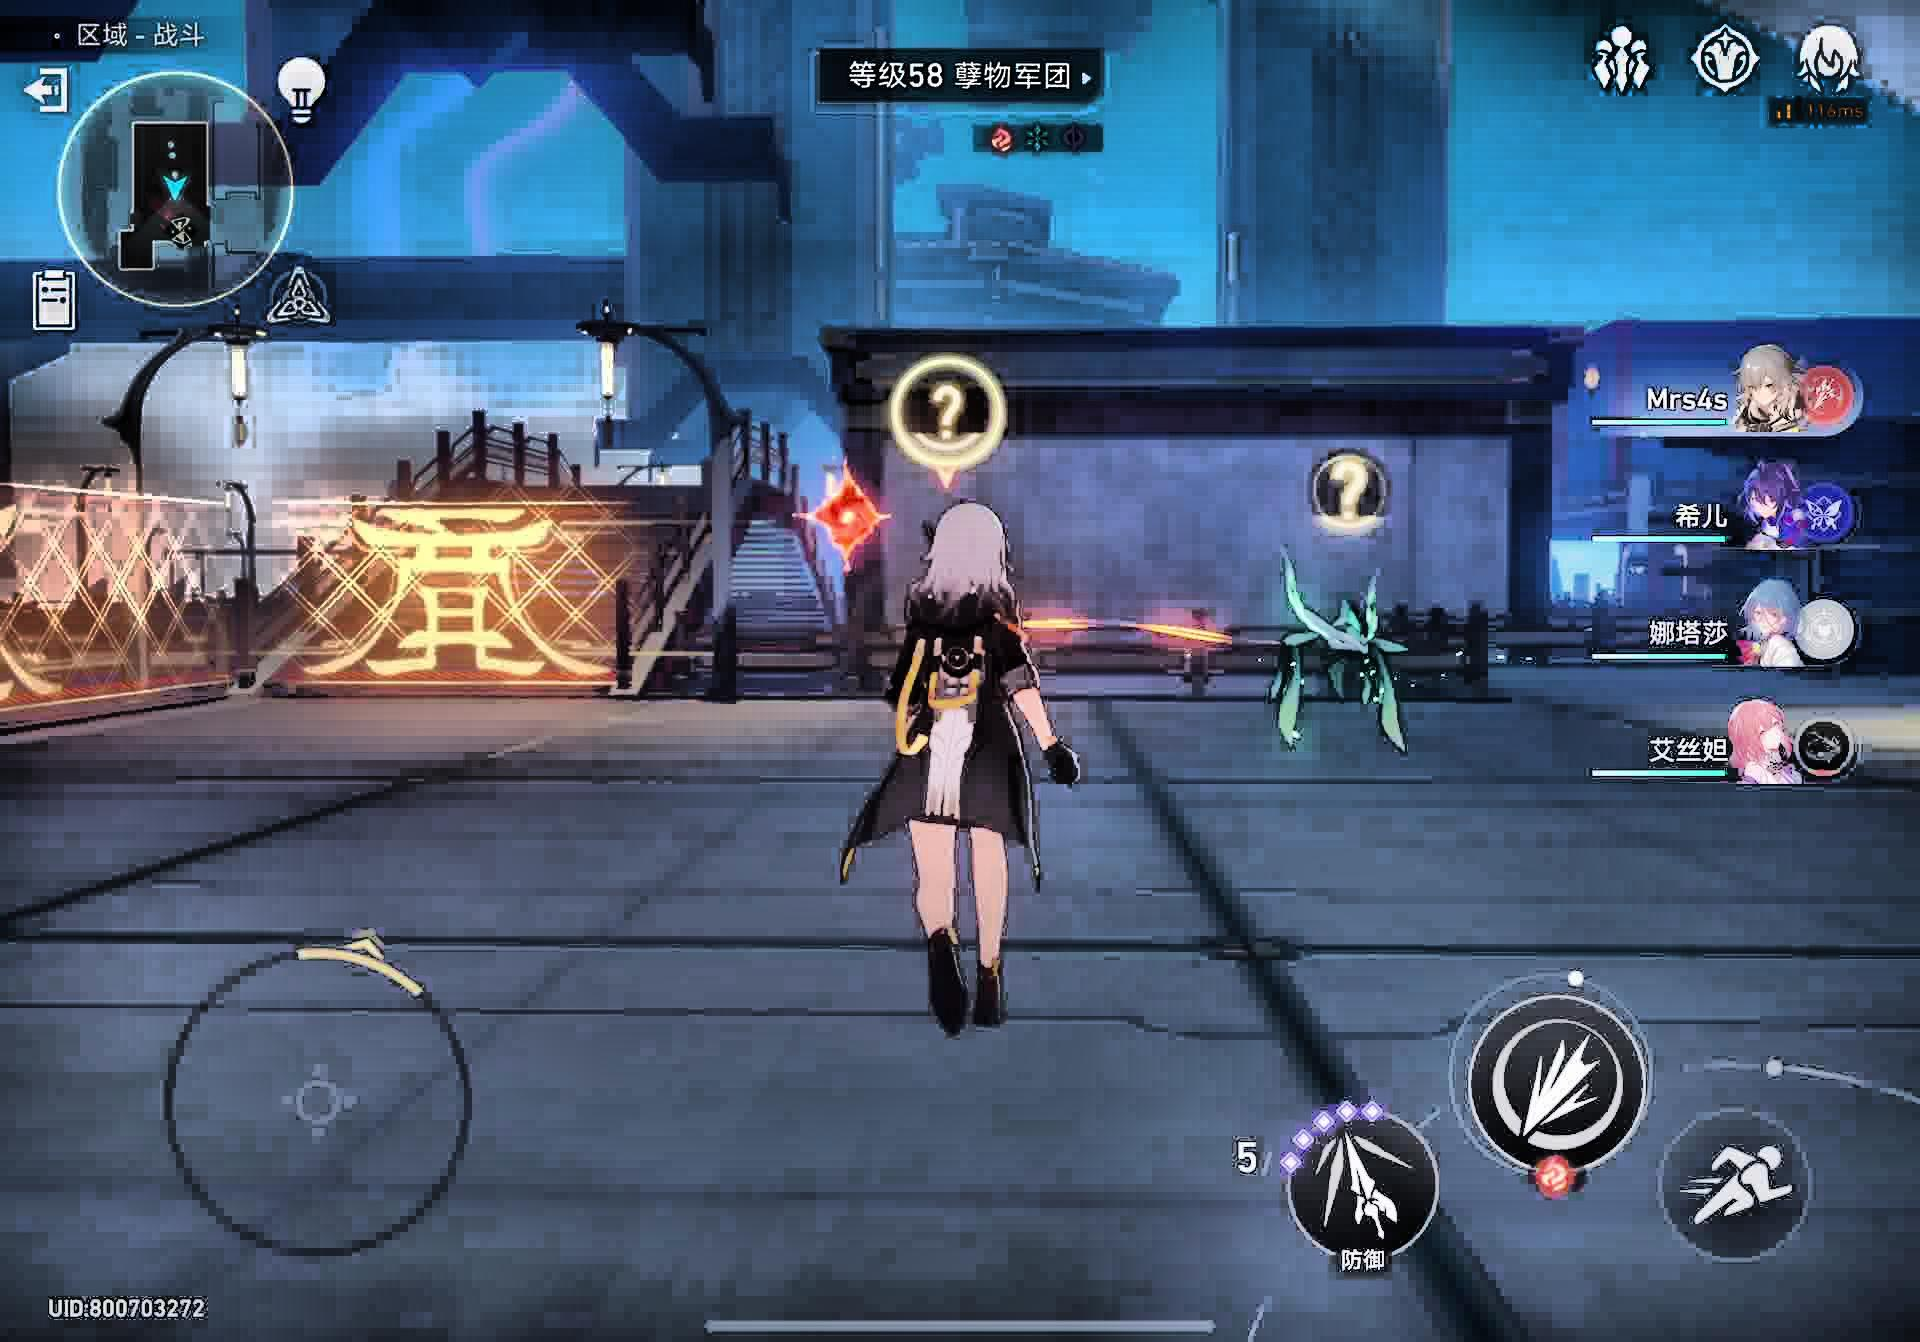BattleDoor: (794, 465, 891, 569)
Enemy: (1262, 551, 1422, 776)
Self: (859, 502, 1081, 1050)
